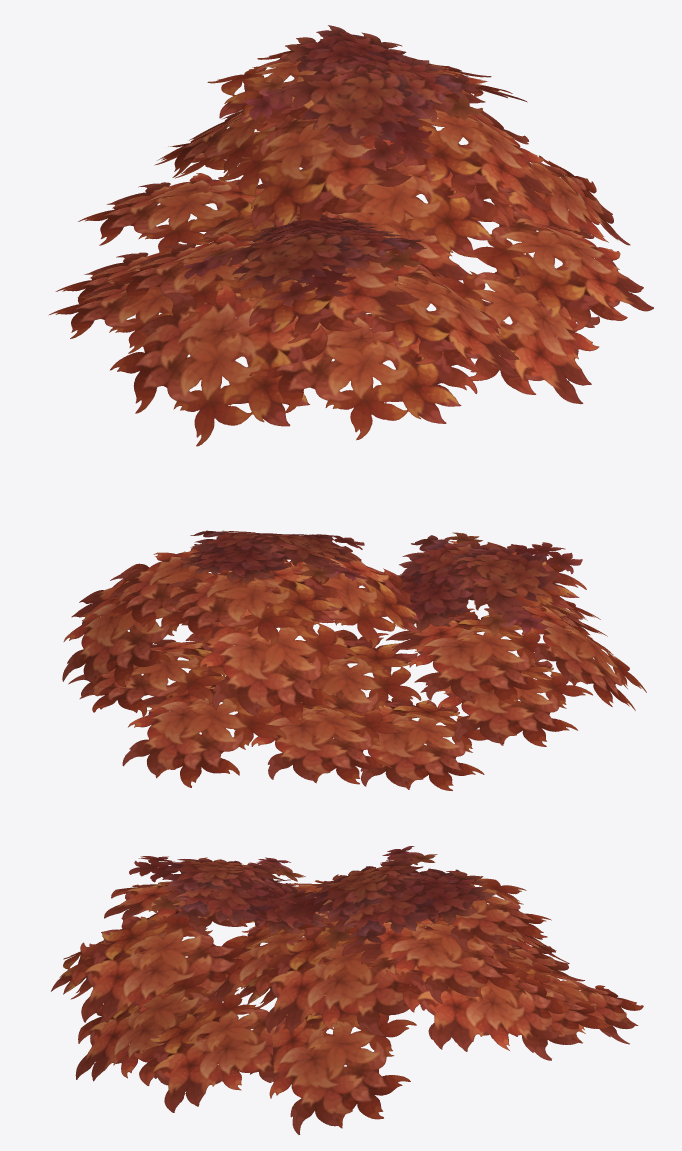
Rendered from zhiwu_04.FBX.
3 renders of one model, top to bottom at view 1: azimuth 30°, elevation 25°; view 2: azimuth 150°, elevation 25°; view 3: azimuth 270°, elevation 25°, orthographic. The views are drawn at different scales.
Parts seen in each view (by area): view 1: zhiwu_04; view 2: zhiwu_04; view 3: zhiwu_04.
Part boxes in pixels (bbox=[...]): zhiwu_04: bbox=[48, 25, 653, 446]; zhiwu_04: bbox=[62, 530, 646, 790]; zhiwu_04: bbox=[51, 846, 643, 1134].
Bounding box in the file's own units: 1.28 × 0.4671 × 1.4.
